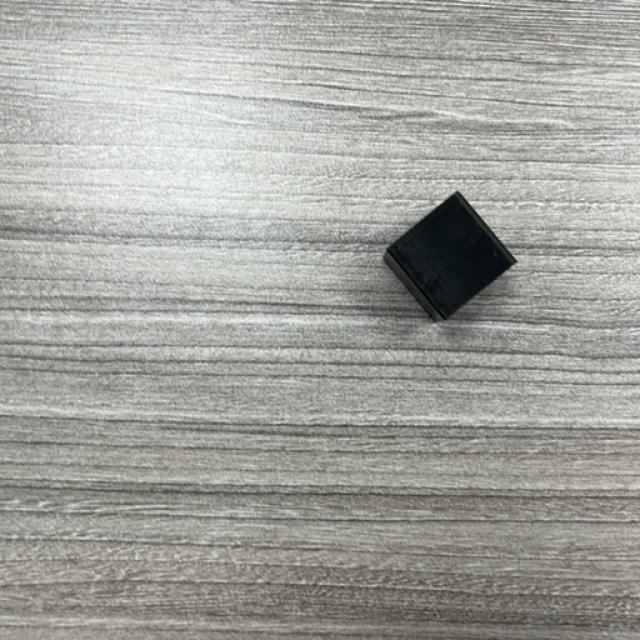Negro: (382, 192, 516, 322)
